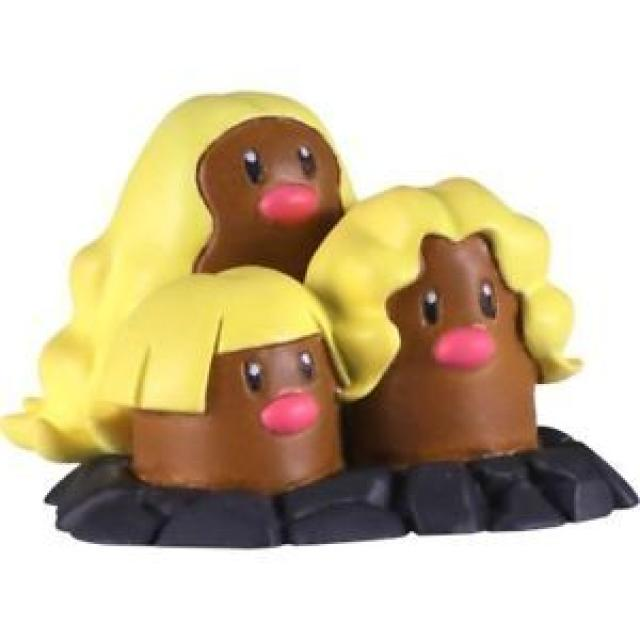Dugtrio: (130, 83, 553, 489)
